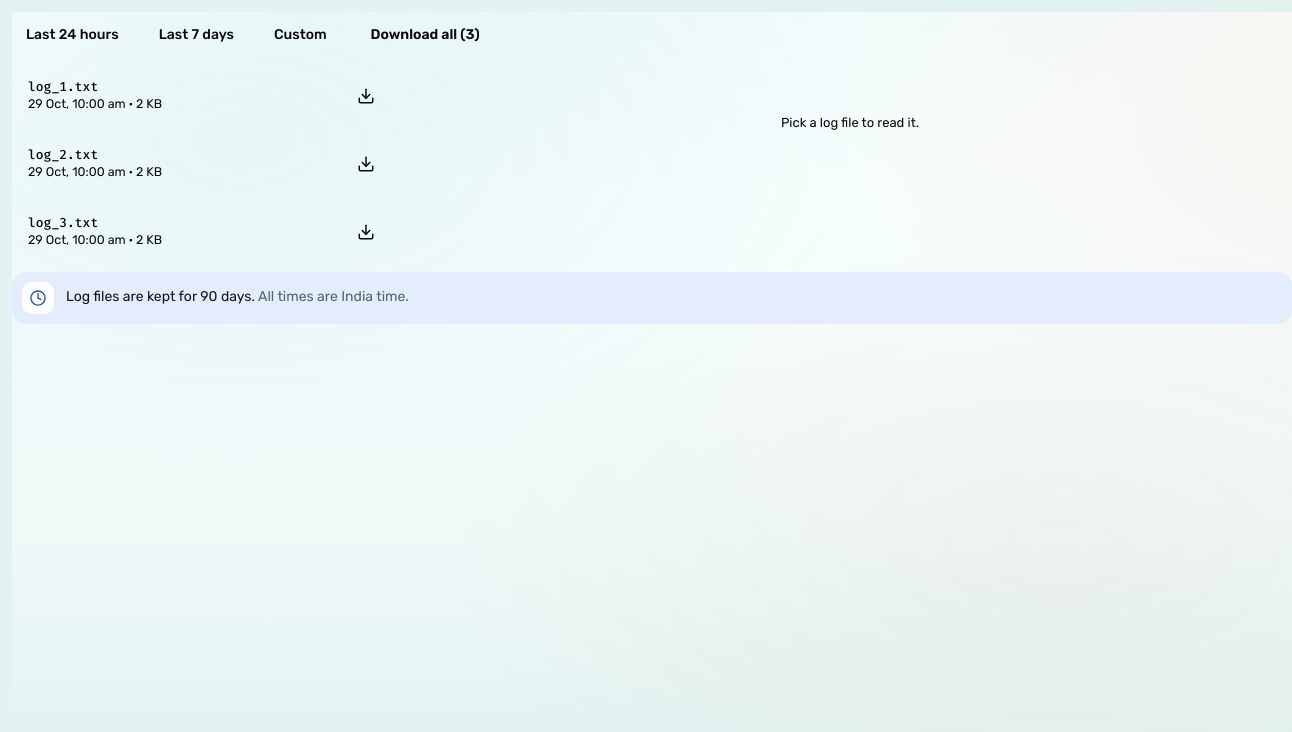
Test: OpsLogFiles › LG6/LG7 click a row opens it in the viewer; latest click wins
Expected: the text "Pick a log file to read it." is shown, [781, 115, 919, 130]
Step 1. Click the button with aria-label "Open log_1.txt" → (63, 87), box [12, 70, 344, 122]
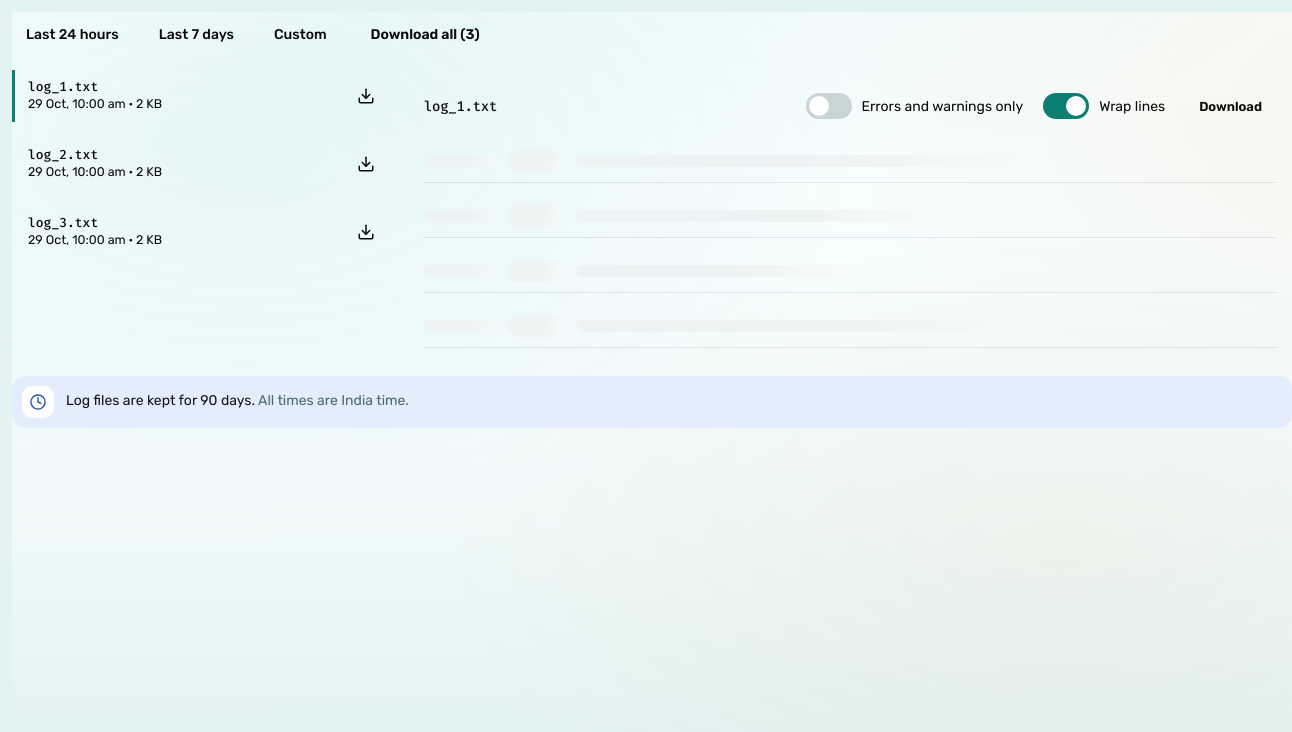
Step 2. Click the button with aria-label "Open log_2.txt" → (63, 155), box [12, 138, 344, 190]
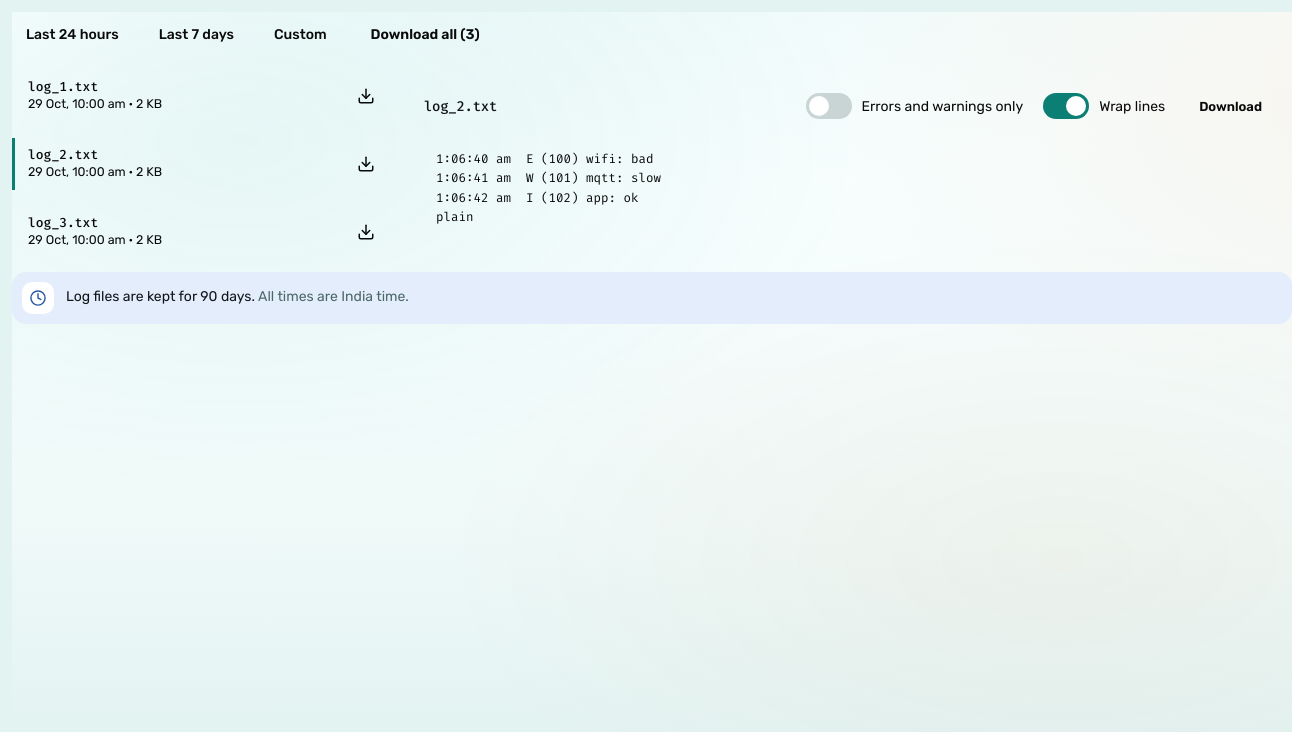
Expected: the switch labelled "Errors and warnings only" is shown, [806, 84, 1023, 128]
Expected: the switch labelled "Wrap lines" is shown, [1043, 84, 1165, 128]
Expected: the heading "log_2.txt" is shown, [424, 96, 497, 116]
